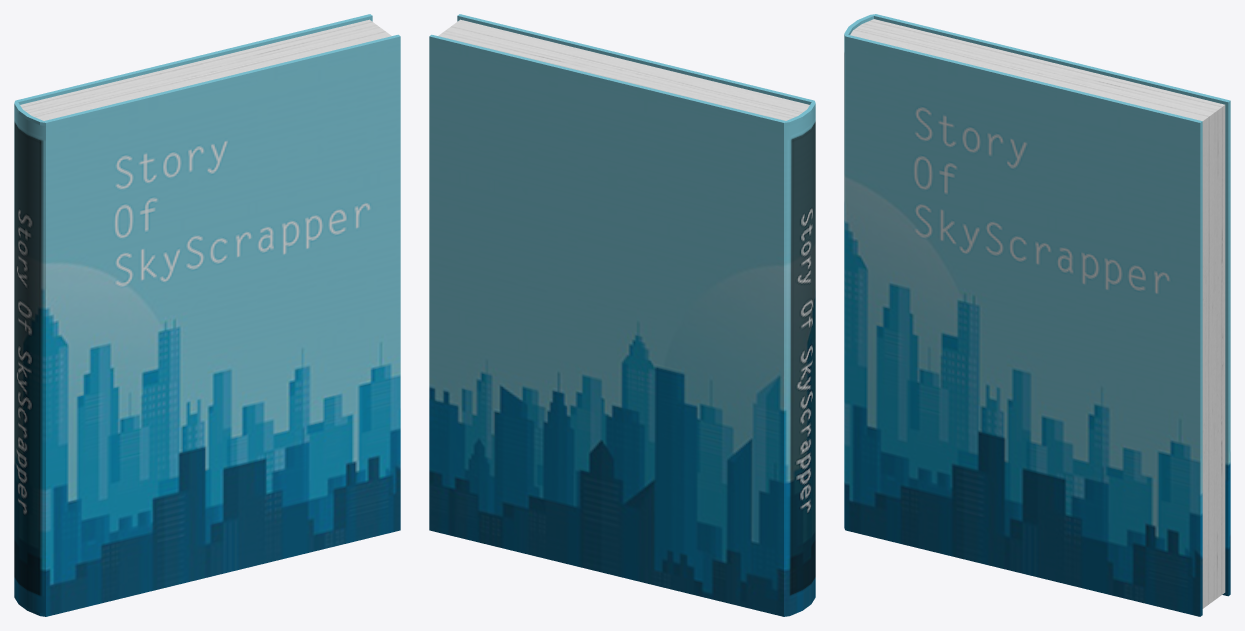
The model's file is book5.FBX.
The picture shows the model from 3 angles, left to right: view 1: azimuth 30°, elevation 25°; view 2: azimuth 150°, elevation 25°; view 3: azimuth 330°, elevation 25°; orthographic projection.
Parts seen in each view (by area): view 1: book5; view 2: book5; view 3: book5.
Part boxes in pixels (left/top/right/bottom): book5: left=14, top=14, right=400, bottom=616; book5: left=429, top=14, right=815, bottom=616; book5: left=844, top=14, right=1230, bottom=616.
Size of the model in its own units: 8.37 by 1.23 by 10.9.
1 material, 1 textured.
